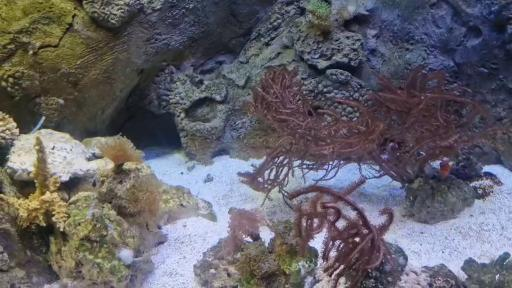Fish: (439, 160, 451, 179)
